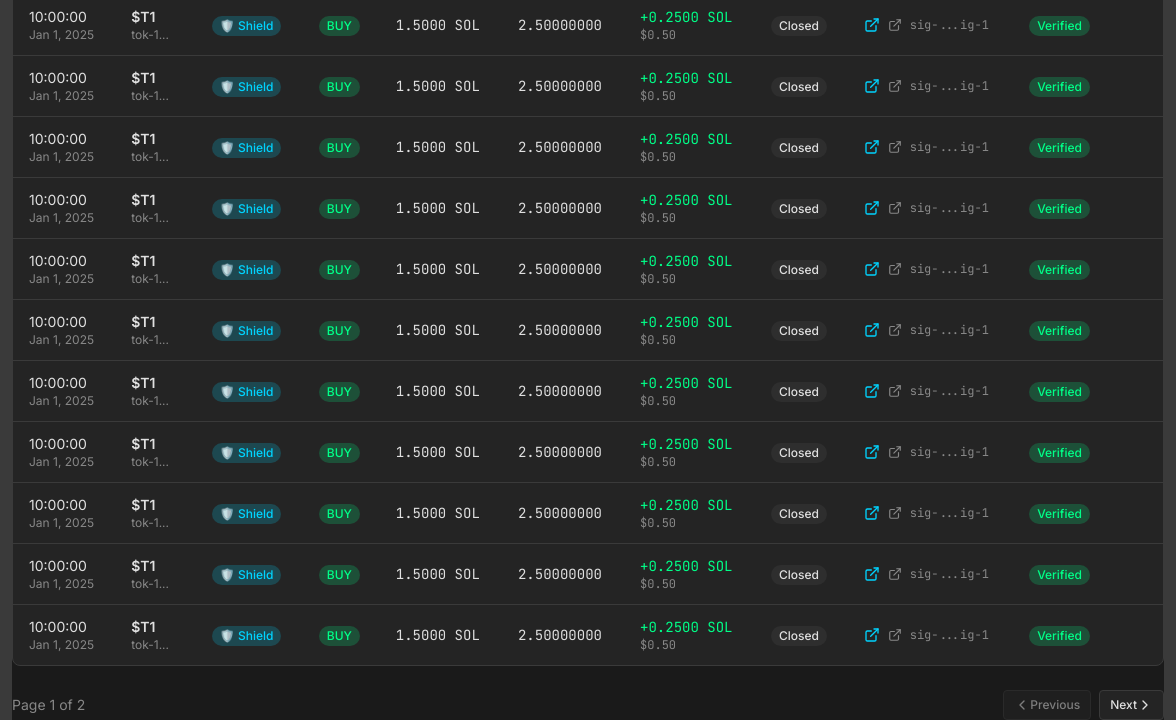
Trades › renders pagination when there are multiple pages
The image size is (1176, 720).
(page scrolled)
Expected: the text "Page 1 of 2" is shown, [12,695,85,715]
Click the button "Next" at (1132, 705), box [1099,690,1164,719]
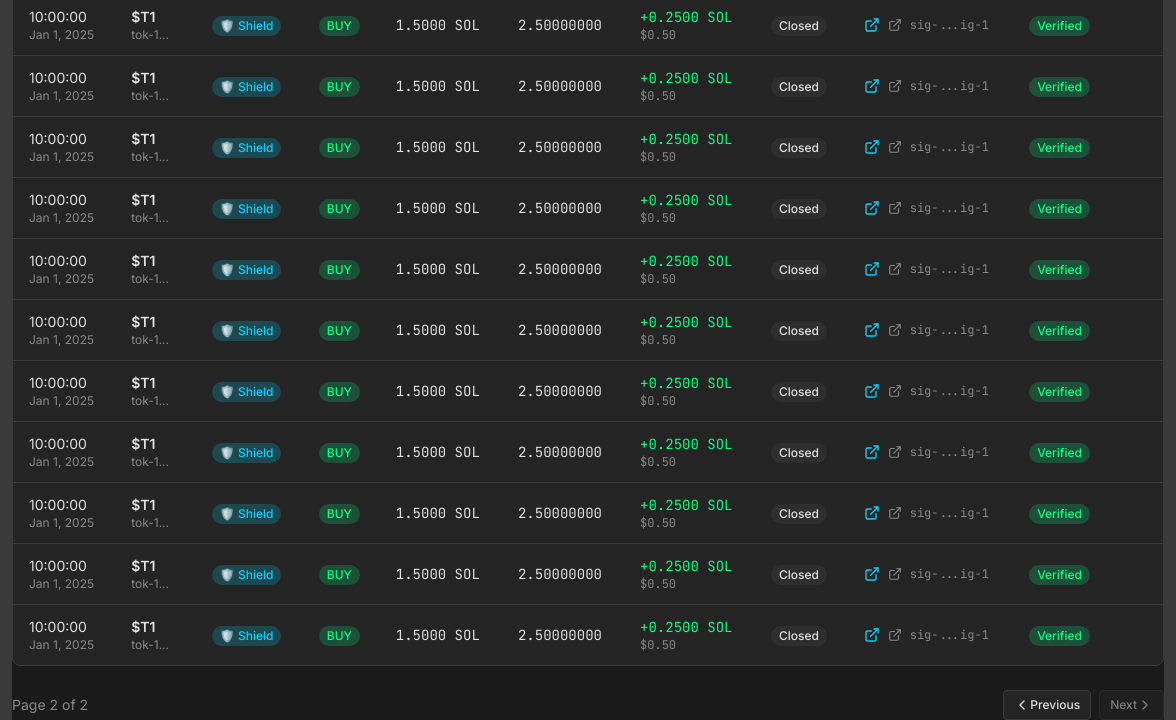
Result: the text "Page 2 of 2" is shown at [12,695,88,715]
Click the button "Previous" at (1047, 705), box [1003,690,1091,719]
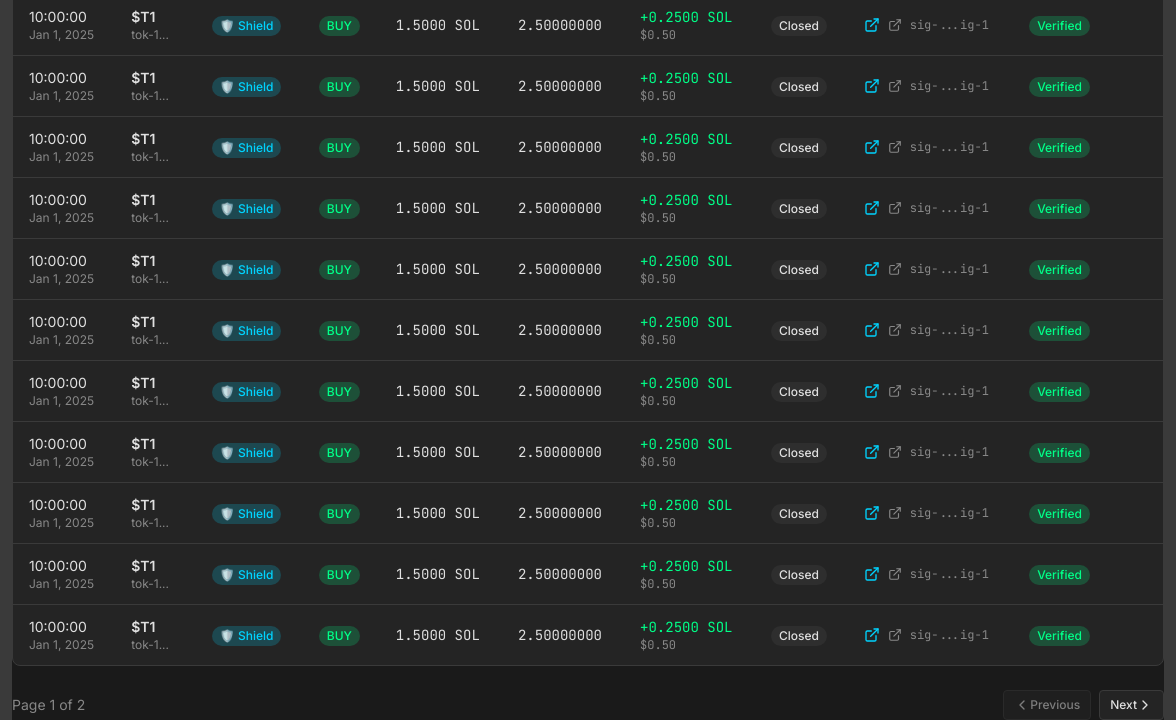
Result: the text "Page 1 of 2" is shown at [12,695,85,715]
